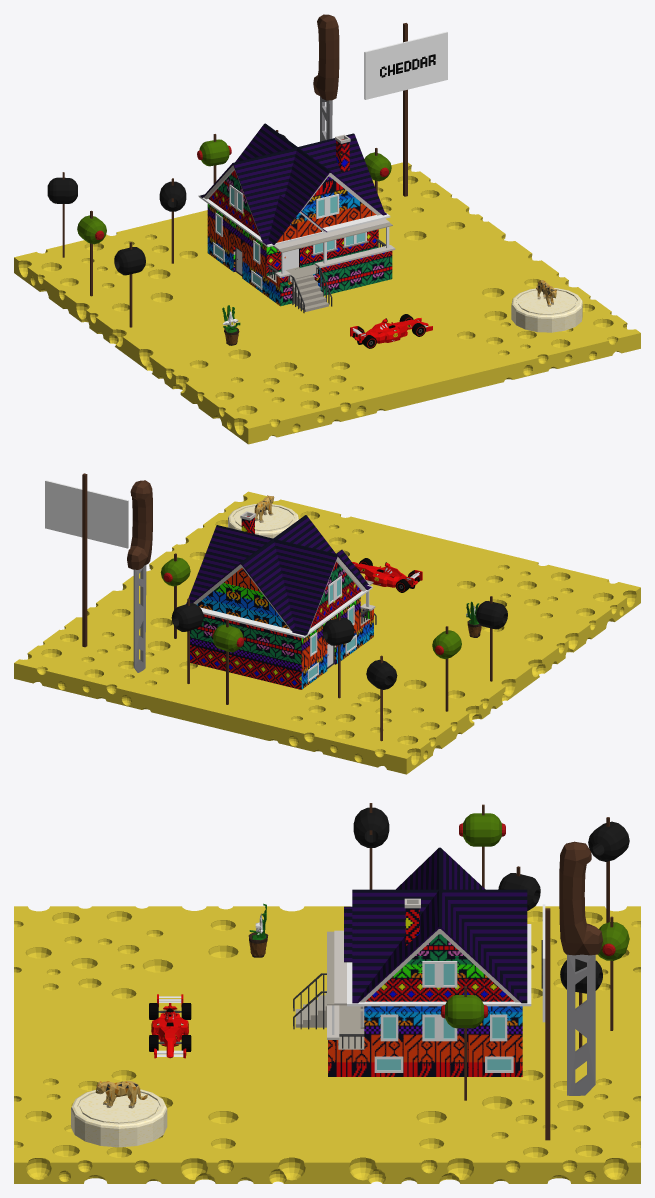
The picture shows the model from 3 angles, top to bottom: view 1: azimuth 30°, elevation 25°; view 2: azimuth 150°, elevation 25°; view 3: azimuth 270°, elevation 25°; orthographic projection. The views are drawn at different scales.
Visible parts, largest first — view 1: Cube.022, Cube.966, Cube.023, Cylinder.016, Cube.024, VEHICLES_FORMULA_1, Sphere.017, Sphere.016, Sphere.020, Sphere.018, Sphere.022, Sphere.019; view 2: Cube.022, Cube.966, Cube.023, Cube.024, Cylinder.016, VEHICLES_FORMULA_1, Sphere.017, Sphere.020, Sphere.021, Sphere.016, Sphere.018, Sphere.022 (+1 smaller); view 3: Cube.022, Cube.966, Cube.024, Cylinder.016, VEHICLES_FORMULA_1, Cube.023, Sphere.019, Sphere.016, Sphere.018, Sphere.017, Sphere.022, ANIMAL_JAGUAR (+3 smaller).
Part boxes in pixels (x1=…): Cube.022: x1=14, y1=162, x2=640, y2=444; Cube.966: x1=198, y1=123, x2=395, y2=313; Cube.023: x1=364, y1=23, x2=447, y2=196; Cylinder.016: x1=511, y1=288, x2=582, y2=332; Cube.024: x1=313, y1=14, x2=339, y2=141; VEHICLES_FORMULA_1: x1=350, y1=314, x2=432, y2=348; Sphere.017: x1=114, y1=242, x2=145, y2=327; Sphere.016: x1=47, y1=172, x2=77, y2=257; Sphere.020: x1=159, y1=178, x2=186, y2=263; Sphere.018: x1=77, y1=210, x2=106, y2=296; Sphere.022: x1=197, y1=134, x2=231, y2=183; Sphere.019: x1=364, y1=148, x2=391, y2=192; Cube.022: x1=14, y1=491, x2=640, y2=774; Cube.966: x1=185, y1=511, x2=376, y2=689; Cube.023: x1=45, y1=473, x2=128, y2=647; Cube.024: x1=127, y1=480, x2=152, y2=672; Cylinder.016: x1=228, y1=504, x2=298, y2=538; VEHICLES_FORMULA_1: x1=352, y1=558, x2=422, y2=592; Sphere.017: x1=476, y1=596, x2=507, y2=681; Sphere.020: x1=322, y1=612, x2=354, y2=698; Sphere.021: x1=171, y1=598, x2=203, y2=683; Sphere.016: x1=366, y1=655, x2=397, y2=741; Sphere.018: x1=432, y1=626, x2=461, y2=711; Sphere.022: x1=212, y1=619, x2=244, y2=704; Cube.022: x1=14, y1=906, x2=640, y2=1183; Cube.966: x1=293, y1=847, x2=531, y2=1076; Cube.024: x1=559, y1=841, x2=602, y2=1095; Cylinder.016: x1=71, y1=1089, x2=167, y2=1147; VEHICLES_FORMULA_1: x1=149, y1=994, x2=191, y2=1058; Cube.023: x1=541, y1=904, x2=550, y2=1140; Sphere.019: x1=441, y1=986, x2=487, y2=1100; Sphere.016: x1=588, y1=817, x2=629, y2=922; Sphere.018: x1=459, y1=804, x2=505, y2=887; Sphere.017: x1=353, y1=803, x2=389, y2=889; Sphere.022: x1=598, y1=916, x2=629, y2=1030; ANIMAL_JAGUAR: x1=95, y1=1081, x2=147, y2=1108.
Size of the model in its own units: 3917 by 2108 by 4000.
44 materials, 7 textured.
